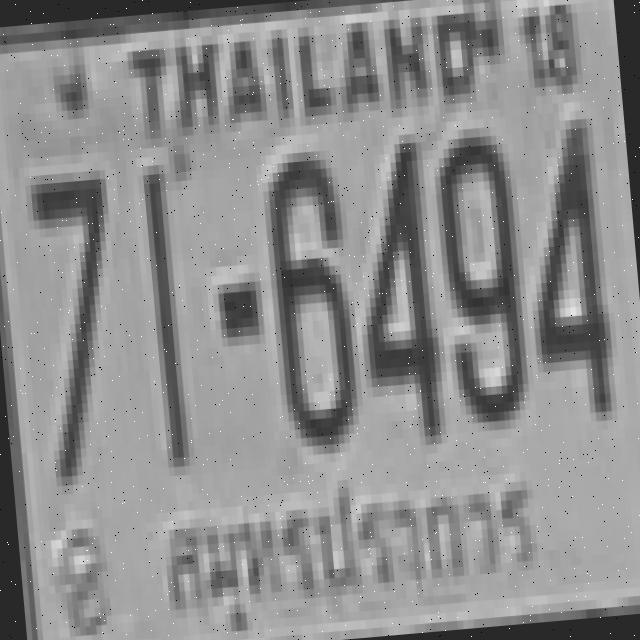1: (136, 164, 190, 467), (139, 164, 187, 467)
4: (345, 134, 441, 440), (516, 110, 612, 416)
6: (259, 141, 354, 439)
7: (24, 166, 126, 482), (23, 166, 118, 384)
9: (430, 126, 526, 424)
SamutPrakan: (151, 469, 539, 639)
